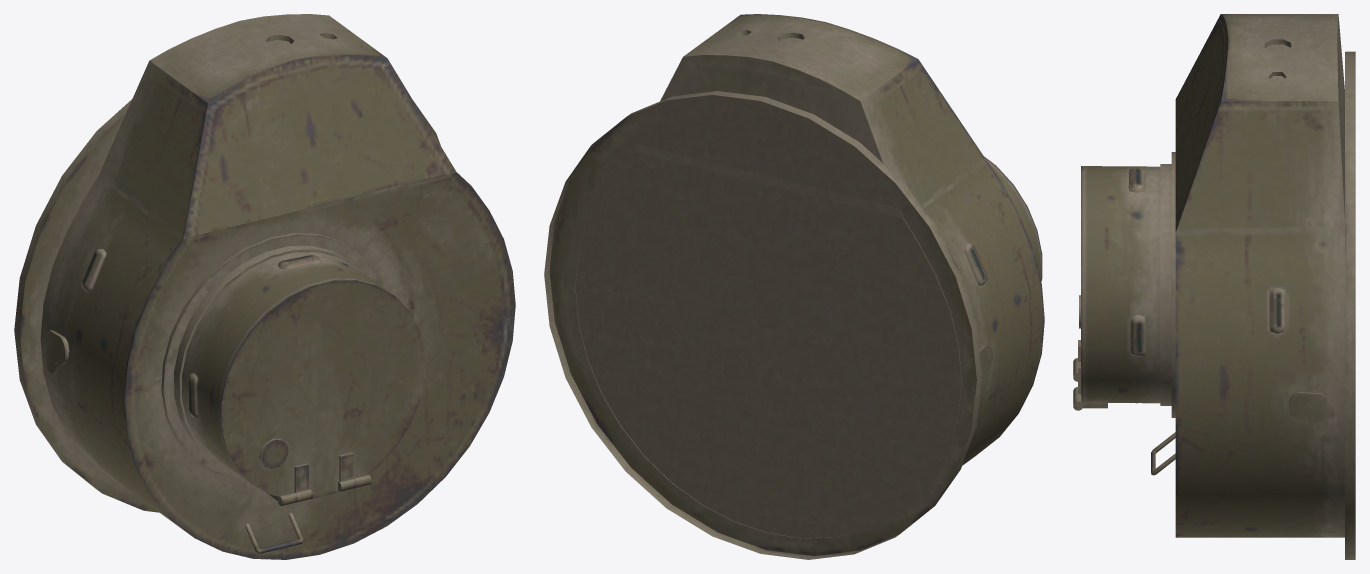
File: Turret_01.glb
3 views of the same model, side by side, from view 1: azimuth 30°, elevation 25°; view 2: azimuth 150°, elevation 25°; view 3: azimuth 270°, elevation 25° (orthographic).
Visible parts, largest first — view 1: set_0_group_0; view 2: set_0_group_0; view 3: set_0_group_0.
Boxes of the visible parts, <box> form: set_0_group_0: <box>14,14,515,559</box>; set_0_group_0: <box>544,14,1044,559</box>; set_0_group_0: <box>1073,14,1355,559</box>.
Size of the model in its own units: 1.38 by 1.48 by 0.766.
Materials: 1 (1 with a texture image).
